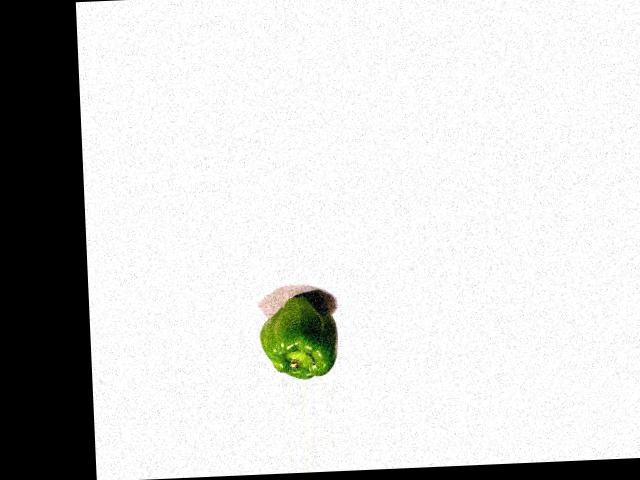bell_pepper: (255, 289, 341, 380)
